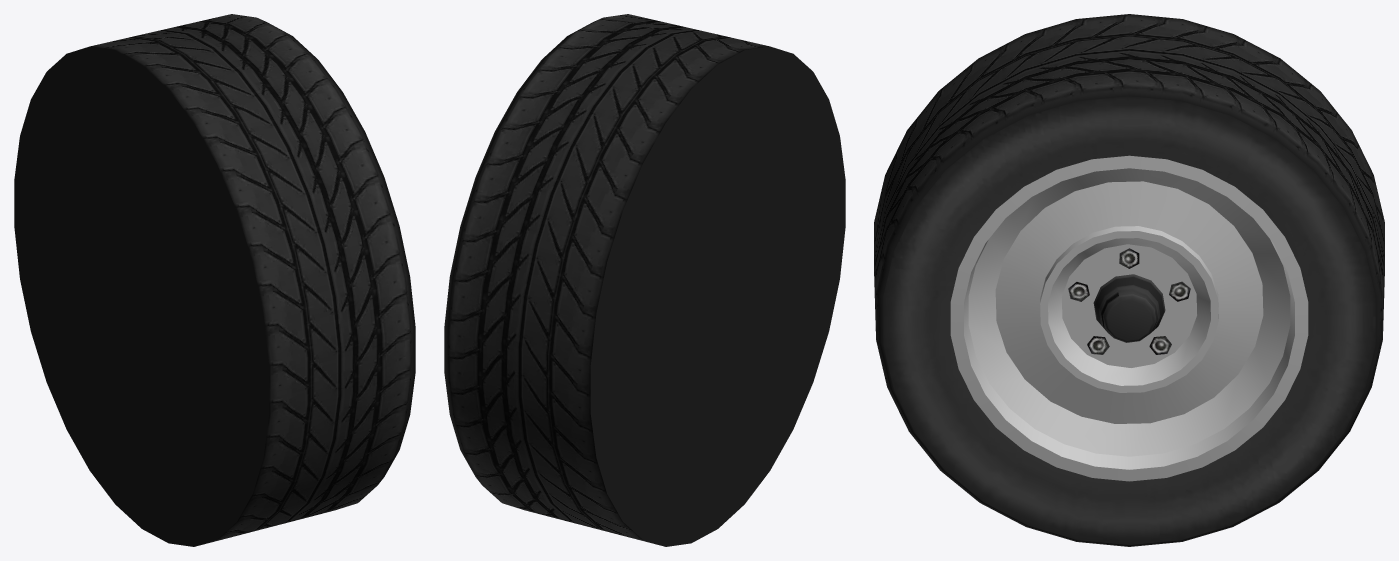
The model's file is std_victorycop_wheel.fbx.
3 views of the same model, side by side, from view 1: azimuth 30°, elevation 25°; view 2: azimuth 150°, elevation 25°; view 3: azimuth 270°, elevation 25° (orthographic).
Parts seen in each view (by area): view 1: Wheel_lod0; view 2: Wheel_lod0; view 3: Wheel_lod0.
Part boxes in pixels (x1=…): Wheel_lod0: x1=14, y1=14, x2=415, y2=546; Wheel_lod0: x1=444, y1=14, x2=845, y2=546; Wheel_lod0: x1=874, y1=14, x2=1384, y2=546.
Size of what is drawn, in the model's own units: 22.85 by 67.18 by 66.82.
